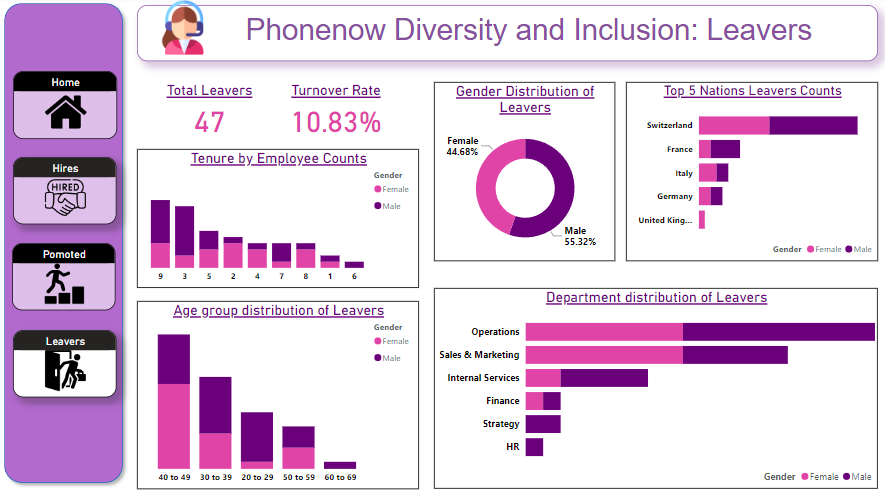

The dashboard page shown, as its layout file describes it:
{"tool":"powerbi","page":{"name":"Page 4","canvas":[1280,720],"ordinal":3},"visuals":[{"type":"textbox","box":[200.2,11.5,1067,80.6],"z":0},{"type":"shape","box":[0,0,188.6,708.5],"z":1000},{"type":"image","title":"Home","box":[21.6,106.6,149.8,97.9],"z":2000},{"type":"image","title":"Hires","box":[21.6,230.4,149,97],"z":3000},{"type":"image","title":"Pomoted","box":[20.2,354.2,149,97],"z":4000},{"type":"image","title":"Leavers","box":[21.6,479.5,149,97],"z":5000},{"type":"barChart","title":"Department distribution of  Leavers","fields":{"Category":["Pharma Group AG.Department @01.07.2020"],"Series":["Pharma Group AG.Gender"],"Y":["Pharma Group AG.# of leavers"]},"box":[627.8,419,639.4,289.4],"z":6000},{"type":"columnChart","title":"Age group distribution  of  Leavers","fields":{"Category":["Pharma Group AG.Age group"],"Series":["Pharma Group AG.Gender"],"Y":["Pharma Group AG.# of leavers"]},"box":[200.2,437.8,406.1,270.7],"z":7000},{"type":"barChart","title":"Top 5 Nations Leavers Counts","fields":{"Category":["Pharma Group AG.Nationality 1"],"Series":["Pharma Group AG.Gender"],"Y":["Pharma Group AG.# of leavers"]},"box":[904.3,122.4,362.9,257.8],"z":8000},{"type":"card","title":"Turnover Rate","fields":{"Values":["Pharma Group AG.% turnover"]},"box":[390.2,122.4,193,82.1],"z":9000},{"type":"donutChart","title":"Gender Distribution of Leavers","fields":{"Category":["Pharma Group AG.Gender"],"Y":["Pharma Group AG.# of leavers"]},"box":[627.8,122.4,260.6,257.8],"z":10000},{"type":"card","title":"Total Leavers","fields":{"Values":["Pharma Group AG.# of leavers"]},"box":[205.9,122.4,197.3,82.1],"z":11000},{"type":"columnChart","title":"Tenure by Employee Counts","fields":{"Category":["Pharma Group AG.Years since last hire"],"Y":["Pharma Group AG.# of leavers"],"Series":["Pharma Group AG.Gender"]},"box":[200.2,218.9,406.1,200.2],"z":12000},{"type":"image","box":[200.2,0,132.5,87.8],"z":13000}]}

Visuals, with their boxes in screenshot pixels (x1, y1, x2, y2), scaled from the page's 1280x720 canvas onto the 885x497 screenshot:
textbox: 138:8:876:64
shape: 0:0:130:489
"Home" image: 15:74:119:141
"Hires" image: 15:159:118:226
"Pomoted" image: 14:244:117:311
"Leavers" image: 15:331:118:398
"Department distribution of  Leavers" barChart: 434:289:876:489
"Age group distribution  of  Leavers" columnChart: 138:302:419:489
"Top 5 Nations Leavers Counts" barChart: 625:84:876:262
"Turnover Rate" card: 270:84:403:141
"Gender Distribution of Leavers" donutChart: 434:84:614:262
"Total Leavers" card: 142:84:279:141
"Tenure by Employee Counts" columnChart: 138:151:419:289
image: 138:0:230:61
